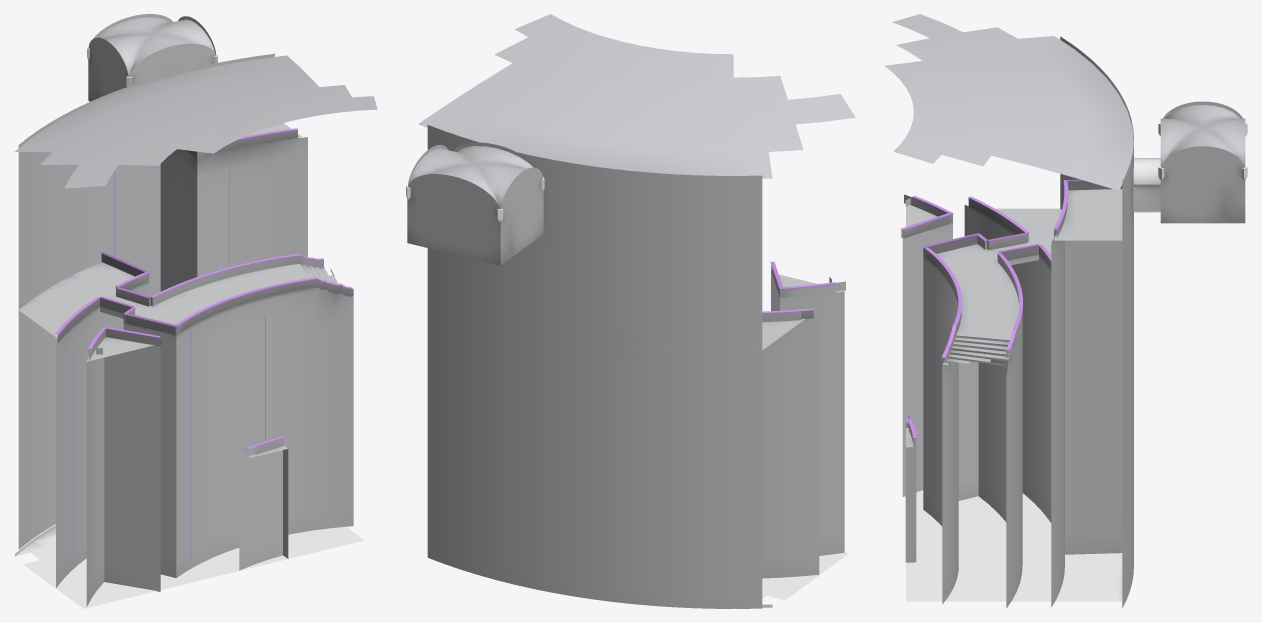
File: crypt_10_ad.glb
3 views of the same model, side by side, from view 1: azimuth 30°, elevation 25°; view 2: azimuth 150°, elevation 25°; view 3: azimuth 270°, elevation 25° (orthographic). The views are drawn at different scales.
Parts seen in each view (by area): view 1: crypt_10_ad; view 2: crypt_10_ad; view 3: crypt_10_ad.
Boxes of the visible parts, x1,y1,x2,y2 form: crypt_10_ad: (14, 14, 377, 608); crypt_10_ad: (406, 14, 855, 608); crypt_10_ad: (884, 14, 1247, 608).
Size of the model in its own units: 36.17 by 47.21 by 34.24.
